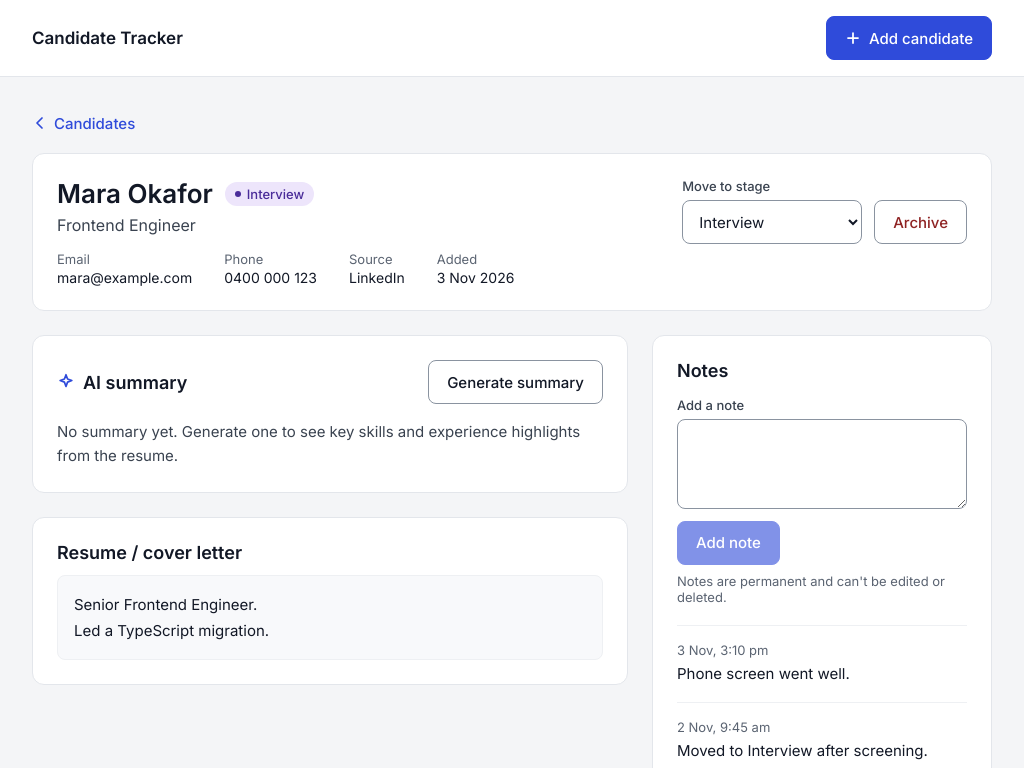
Test: candidate detail: notes › keeps the draft when saving fails
Step 1. Type "Important detail" into the text box labelled "Add a note" → (822, 464), box x1=677 y1=419 x2=967 y2=508
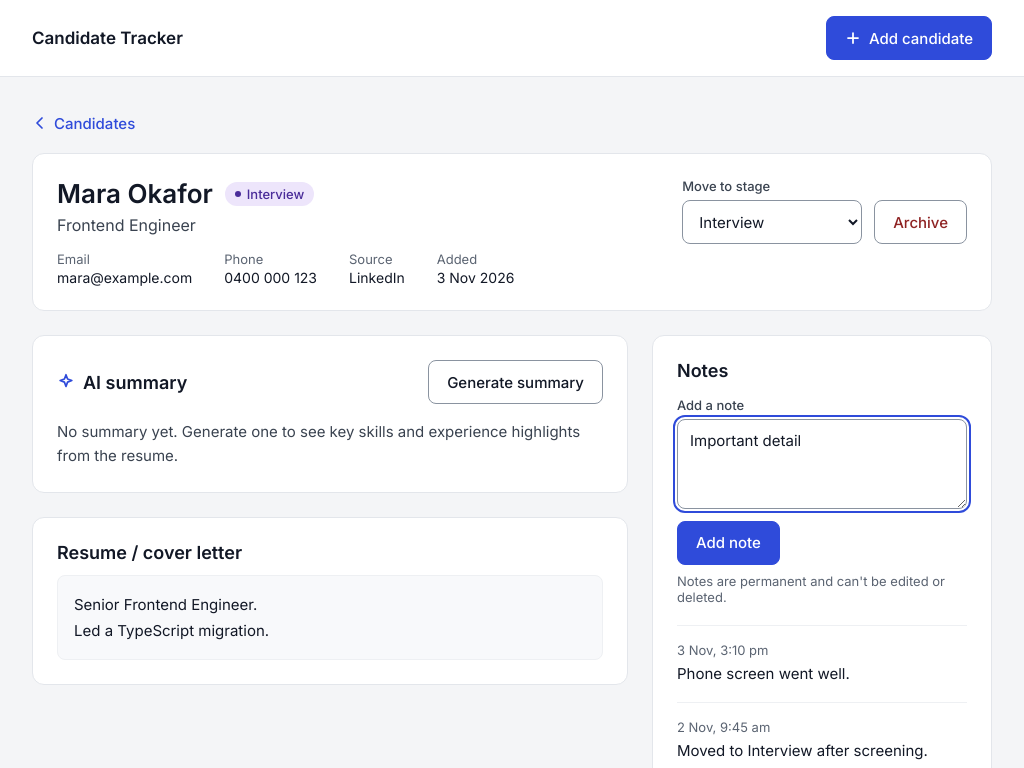
Step 2. Click the button "Add note" → (728, 542), box x1=677 y1=520 x2=780 y2=564
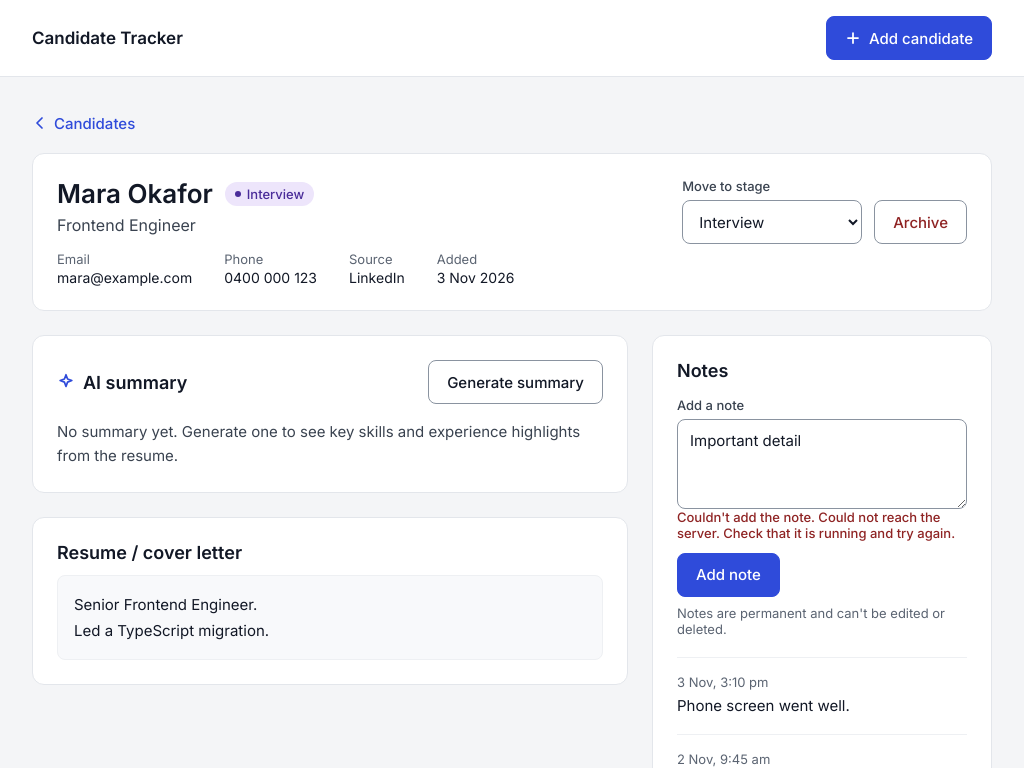
Now the message shows "Couldn't add the note.", box x1=677 y1=508 x2=818 y2=524
